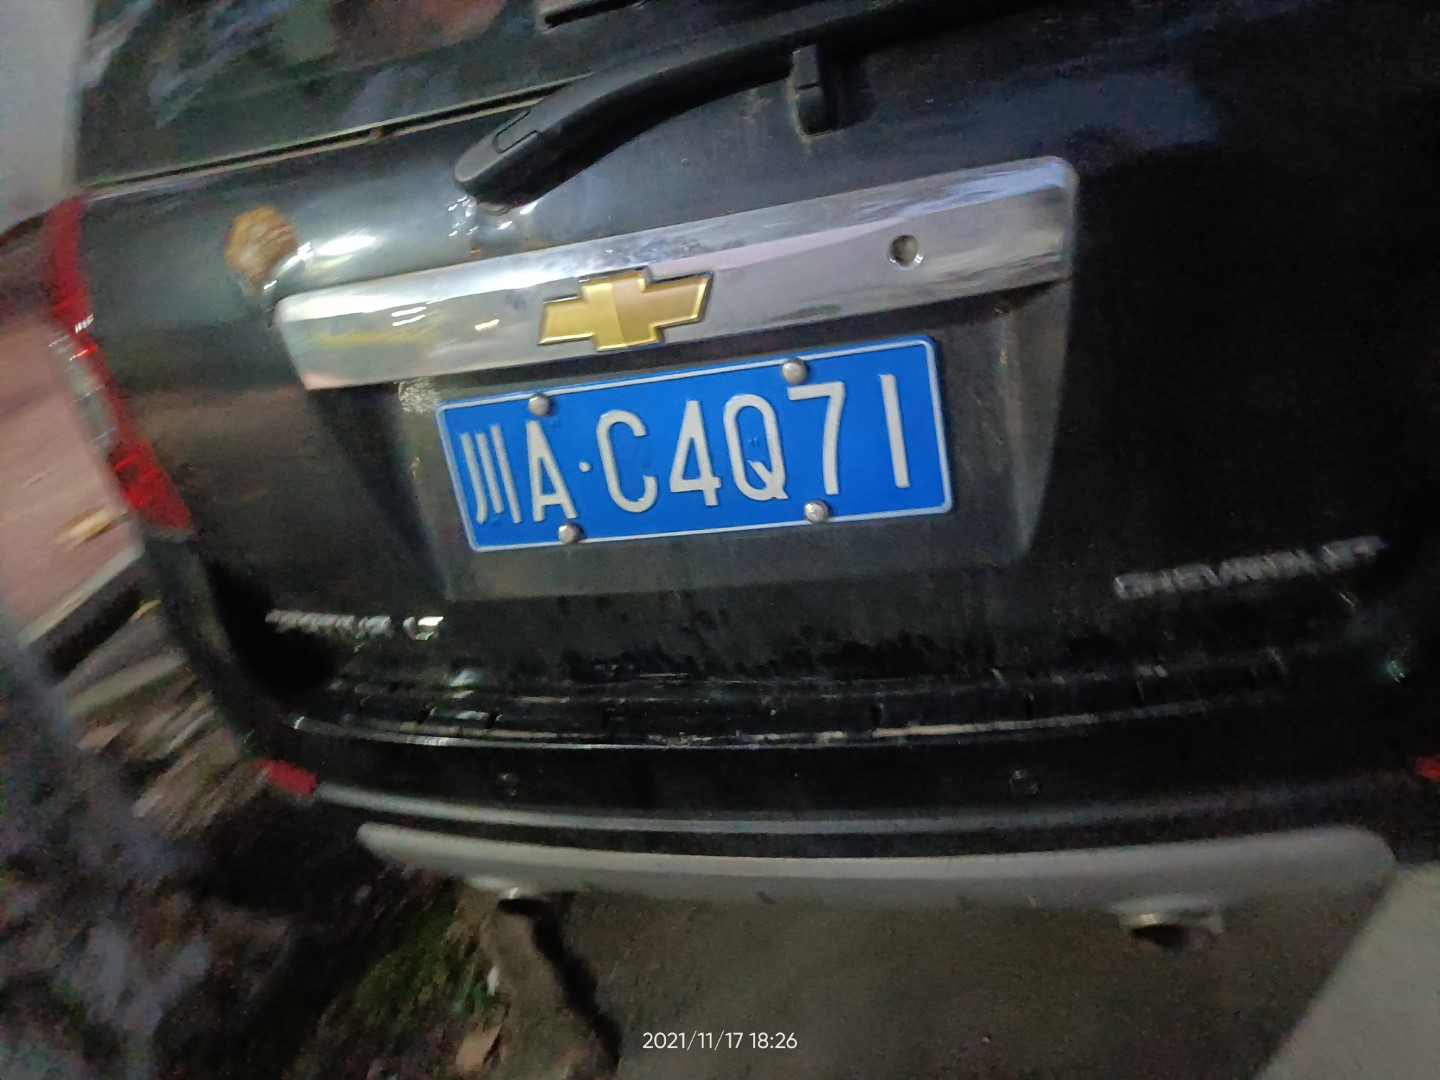plate: (435, 341, 951, 549)
